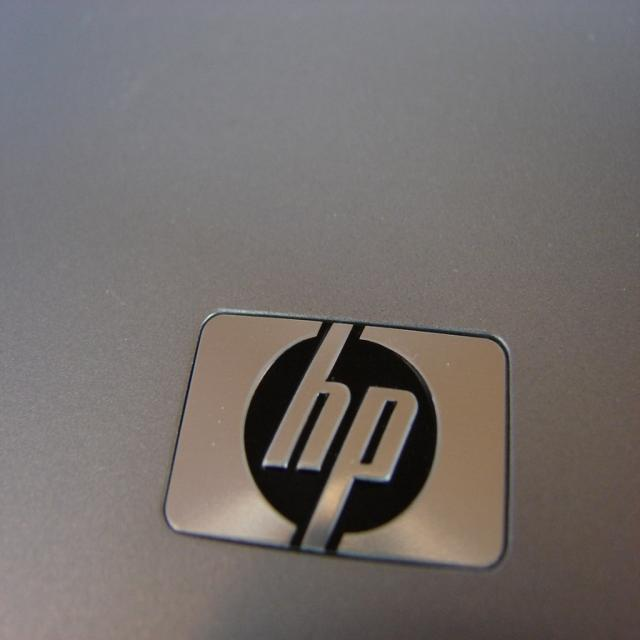HP: (151, 290, 526, 585)
